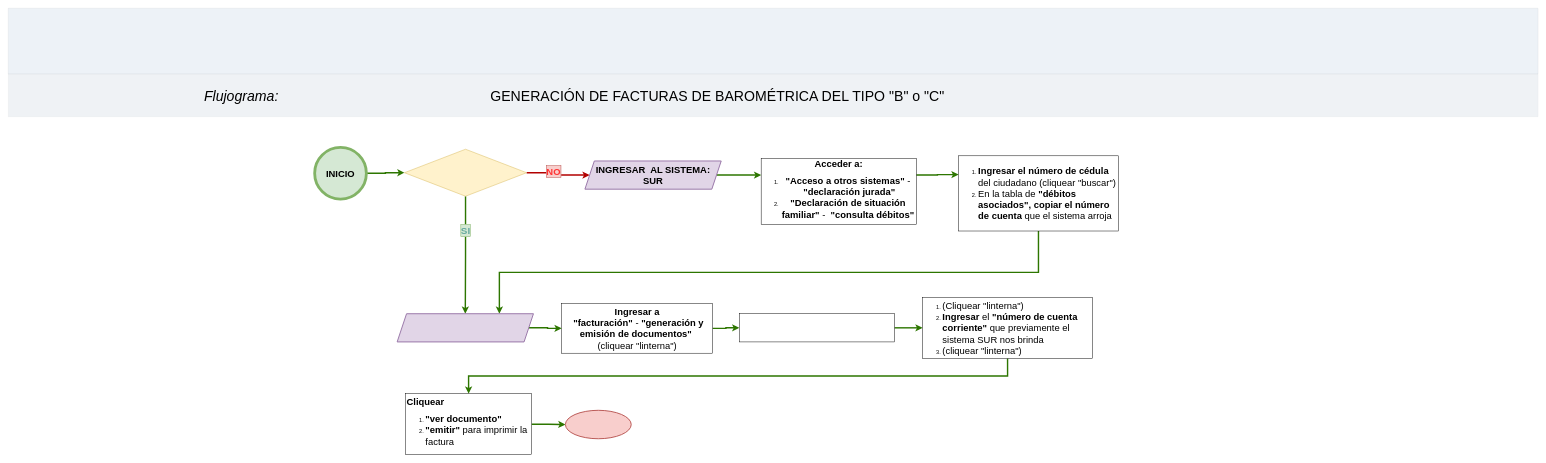
Image size: 1546x463. Some labels were removed from this diagram. The shapes that lost their labels are listed below. From the top down, each one's centre as x and y in pixels, then its label:
pixel 465 172: ¿Tenemos el número de cuenta corriente ?
pixel 465 327: INGRESAR AL SISTEMA: GIC
pixel 816 327: Acceder mediante el "número de cuenta corriente"
pixel 598 424: FIN
